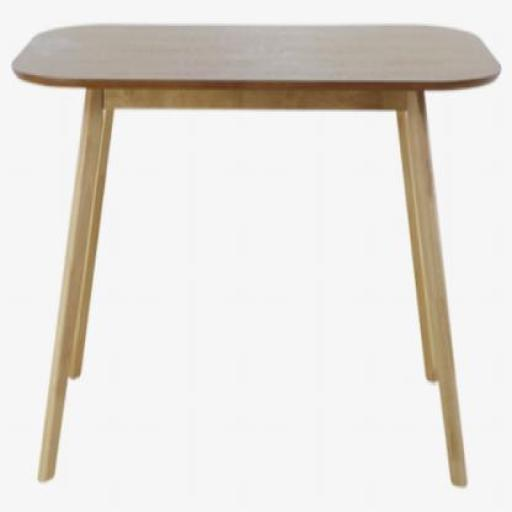table: (10, 18, 503, 487)
